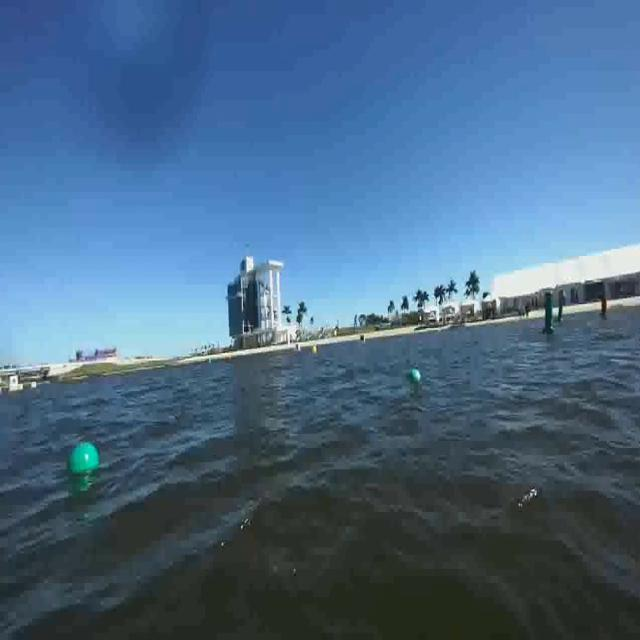green-buoy: (70, 441, 104, 475), (410, 370, 421, 386)
green-column-buoy: (543, 296, 557, 338)
yellow-buoy: (311, 344, 320, 357)
